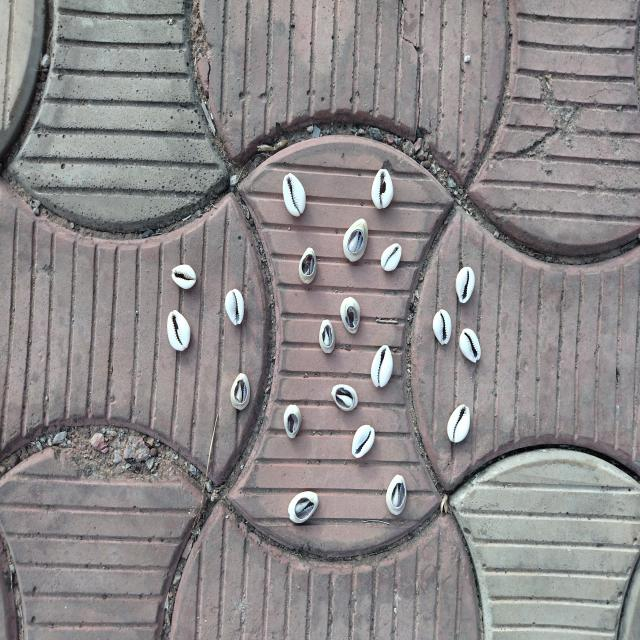facedown: (341, 218, 371, 266), (288, 491, 321, 527), (229, 371, 252, 416), (330, 382, 360, 415), (386, 472, 408, 516), (282, 401, 304, 442), (340, 297, 362, 337), (298, 245, 318, 286), (318, 317, 337, 354)
faceup: (162, 307, 193, 354), (281, 172, 307, 221), (445, 403, 473, 446), (453, 262, 478, 310), (369, 342, 395, 388), (370, 165, 395, 210), (222, 286, 248, 329), (454, 259, 476, 305), (377, 242, 408, 274), (457, 326, 483, 363), (350, 424, 378, 458), (224, 286, 246, 326), (431, 308, 454, 346), (170, 262, 199, 292)
